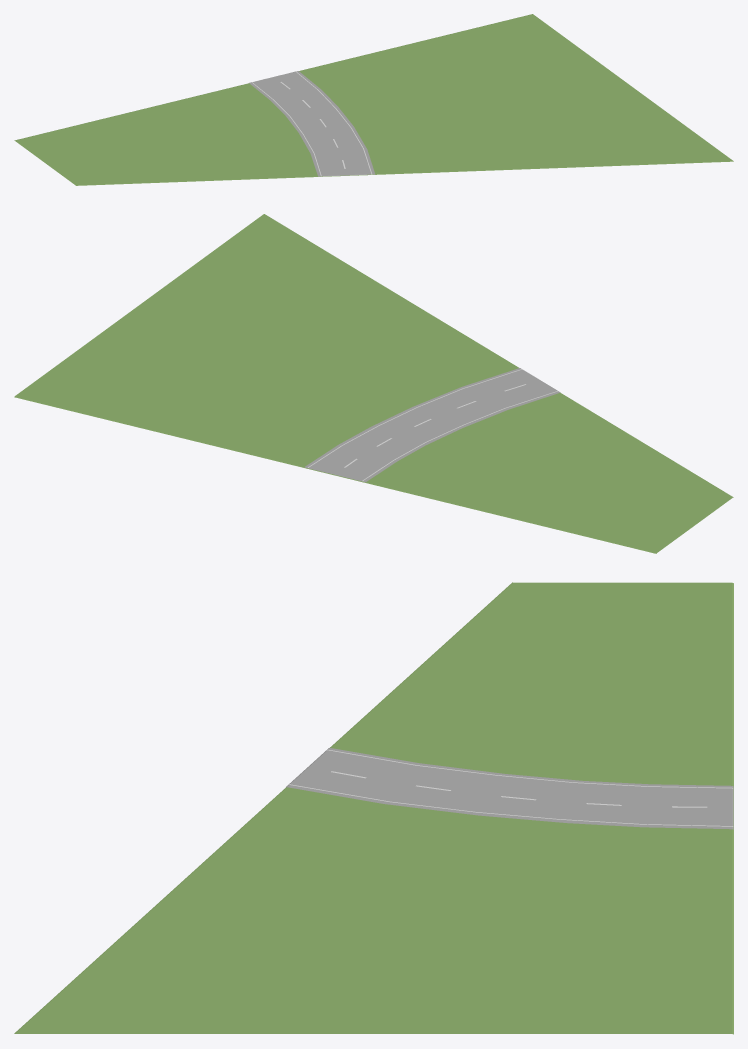
The model's file is road_right_medium.fbx.
3 views of the same model, one above another, from view 1: azimuth 30°, elevation 25°; view 2: azimuth 150°, elevation 25°; view 3: azimuth 270°, elevation 25° (orthographic). The views are drawn at different scales.
Visible parts, largest first — view 1: grass5, road_right_medium, stuff3; view 2: grass5, road_right_medium, stuff3; view 3: grass5, road_right_medium, stuff3.
Part boxes in pixels (x1,y1,x2,y2): grass5: (14,14,733,185); road_right_medium: (249,71,375,176); stuff3: (251,71,372,176); grass5: (14,214,733,553); road_right_medium: (305,368,560,482); stuff3: (308,369,558,481); grass5: (14,582,733,1034); road_right_medium: (286,748,733,829); stuff3: (288,749,733,826).
Size of the model in its own units: 25.02 by 0.042 by 16.85.
